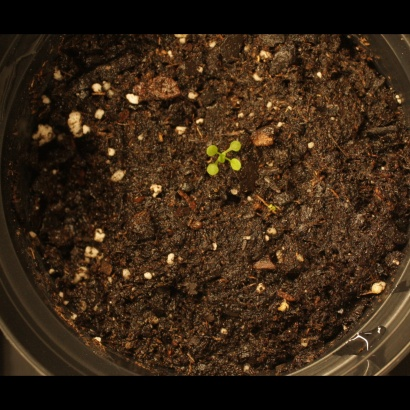leaf: (200, 136, 223, 159), (201, 162, 224, 185), (224, 156, 247, 179), (221, 133, 244, 156)
